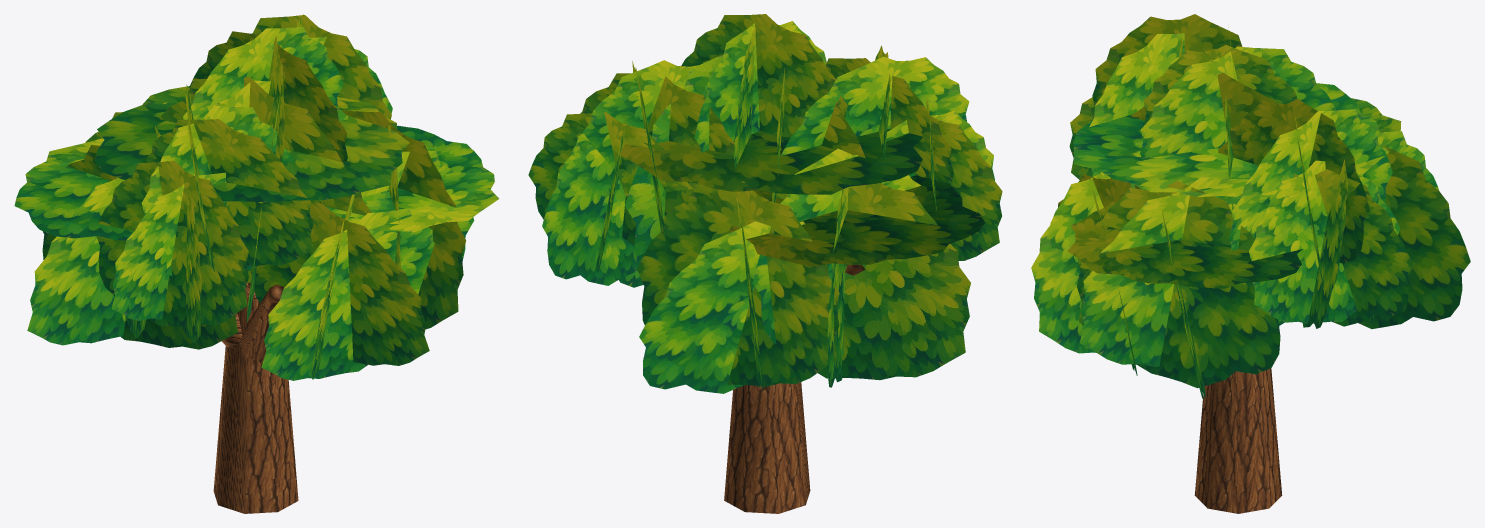
The model's file is ptree_green_round.glb.
3 renders of one model, left to right at view 1: azimuth 30°, elevation 25°; view 2: azimuth 150°, elevation 25°; view 3: azimuth 270°, elevation 25°, orthographic. The views are drawn at different scales.
Parts seen in each view (by area): view 1: leaf, woodBark; view 2: leaf, woodBark; view 3: leaf, woodBark.
Boxes of the visible parts, <box> form: leaf: <box>14,14,499,380</box>; woodBark: <box>213,282,298,513</box>; leaf: <box>528,14,1002,393</box>; woodBark: <box>724,264,865,513</box>; leaf: <box>1031,14,1470,399</box>; woodBark: <box>1194,368,1282,513</box>.
Size of the model in its own units: 1.09 by 1.18 by 1.01.
2 materials, 2 textured.
